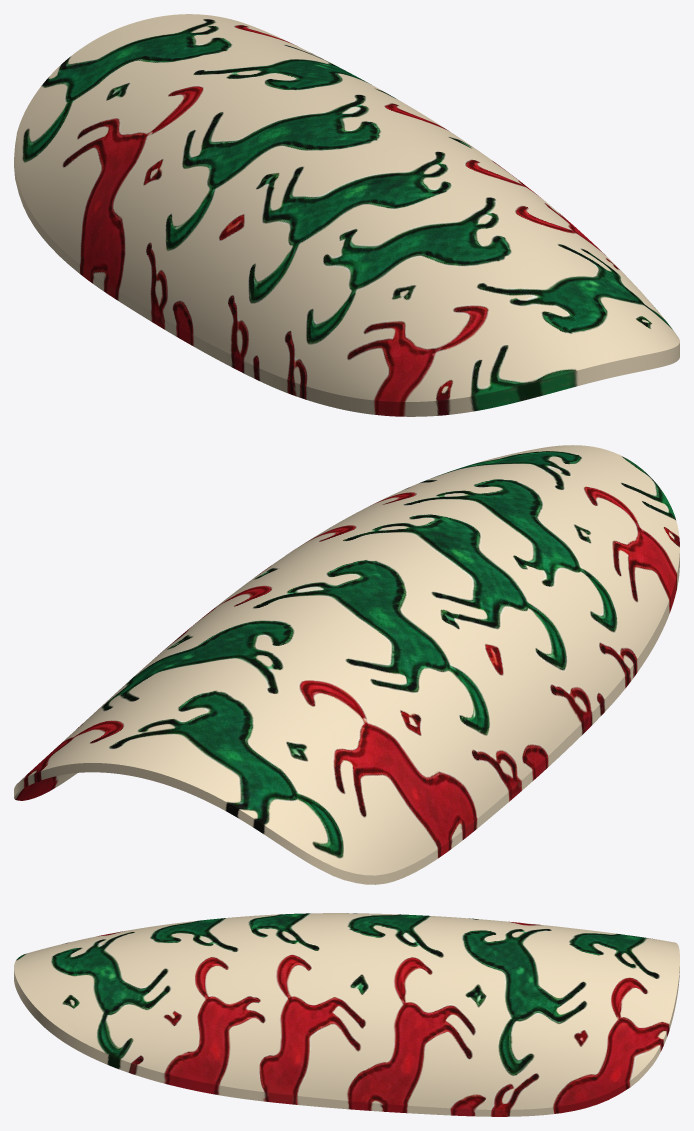
The model's file is MF_Xiao_ma_Wumingzhi_ty03.obj.
3 views of the same model, one above another, from view 1: azimuth 30°, elevation 25°; view 2: azimuth 150°, elevation 25°; view 3: azimuth 270°, elevation 25° (orthographic). The views are drawn at different scales.
Parts seen in each view (by area): view 1: MF_Xiao_ma_Wumingzhi_ty03; view 2: MF_Xiao_ma_Wumingzhi_ty03; view 3: MF_Xiao_ma_Wumingzhi_ty03.
Part boxes in pixels (left/top/right/bottom): MF_Xiao_ma_Wumingzhi_ty03: left=14, top=14, right=679, bottom=416; MF_Xiao_ma_Wumingzhi_ty03: left=14, top=445, right=679, bottom=884; MF_Xiao_ma_Wumingzhi_ty03: left=14, top=913, right=679, bottom=1116.
Size of the model in its own units: 11.98 by 5.49 by 26.36.
1 material, 1 textured.
